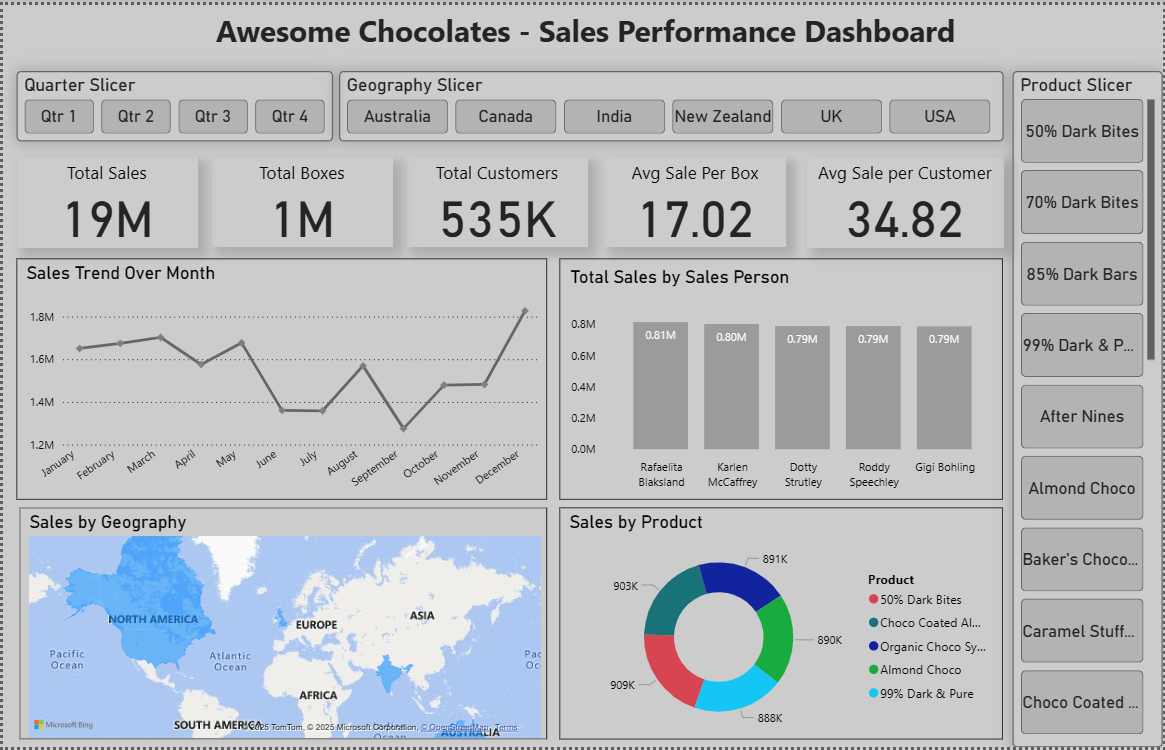

The dashboard page shown, as its layout file describes it:
{"tool":"powerbi","page":{"name":"Awesome Chocolates – Sales Performance Dashboard","canvas":[1250,800],"ordinal":0},"visuals":[{"type":"textbox","box":[0,0,1250,71.2],"z":0},{"type":"advancedSlicerVisual","title":"Geography Slicer","fields":{"Values":["sales.Geography"]},"box":[362.3,71.2,716.5,76],"z":1000},{"type":"advancedSlicerVisual","title":"Product Slicer","fields":{"Values":["sales.Product"]},"box":[1088.4,70.6,162,729.4],"z":2000},{"type":"cardVisual","title":"Total Sales","fields":{"Data":["sales.Total Sales"]},"box":[14.6,163.3,195.7,98.7],"z":3000},{"type":"cardVisual","fields":{"Data":["sales.Total Boxes"]},"box":[224.8,163.3,195.7,97],"z":4000},{"type":"cardVisual","fields":{"Data":["sales.Total Customers"]},"box":[435,163.3,195.7,97],"z":5000},{"type":"cardVisual","fields":{"Data":["sales.Avg Sale per Customer"]},"box":[866.9,163.3,211.9,98.7],"z":6000},{"type":"cardVisual","fields":{"Data":["sales.Avg Sales Per Box"]},"box":[648.5,163.3,195.7,97],"z":7000},{"type":"advancedSlicerVisual","title":"Quarter Slicer","fields":{"Values":["sales.Date.Variation.Date Hierarchy.Quarter"]},"box":[14.6,71.2,341.2,76],"z":8000},{"type":"lineChart","title":"Sales Trend Over Month","fields":{"Y":["sales.Total Sales"],"Category":["sales.Date.Variation.Date Hierarchy.Month"]},"box":[14,274,572,260],"z":9000},{"type":"filledMap","title":"Sales by Geography","fields":{"Category":["sales.Geography"]},"box":[17.1,541.4,568.6,250],"z":10000},{"type":"columnChart","fields":{"Category":["sales.Sales Person"],"Y":["sales.Total Sales"]},"box":[600,274,478,260],"z":11000},{"type":"donutChart","title":"Sales by Product","fields":{"Y":["Sum(sales.Amount)"],"Category":["sales.Product"]},"box":[600,541,478,250],"z":12000}]}

Visuals, with their boxes in screenshot pixels (x1, y1, x2, y2), scaled from the page's 1250x800 canvas onto the 1165x750 screenshot:
textbox: l=0, t=0, r=1164, b=67
"Geography Slicer" advancedSlicerVisual: l=338, t=67, r=1005, b=138
"Product Slicer" advancedSlicerVisual: l=1014, t=66, r=1164, b=749
"Total Sales" cardVisual: l=14, t=153, r=196, b=246
cardVisual - sales.Total Boxes: l=210, t=153, r=392, b=244
cardVisual - sales.Total Customers: l=405, t=153, r=588, b=244
cardVisual - sales.Avg Sale per Customer: l=808, t=153, r=1005, b=246
cardVisual - sales.Avg Sales Per Box: l=604, t=153, r=787, b=244
"Quarter Slicer" advancedSlicerVisual: l=14, t=67, r=332, b=138
"Sales Trend Over Month" lineChart: l=13, t=257, r=546, b=501
"Sales by Geography" filledMap: l=16, t=508, r=546, b=742
columnChart - sales.Sales Person x sales.Total Sales: l=559, t=257, r=1005, b=501
"Sales by Product" donutChart: l=559, t=507, r=1005, b=742
